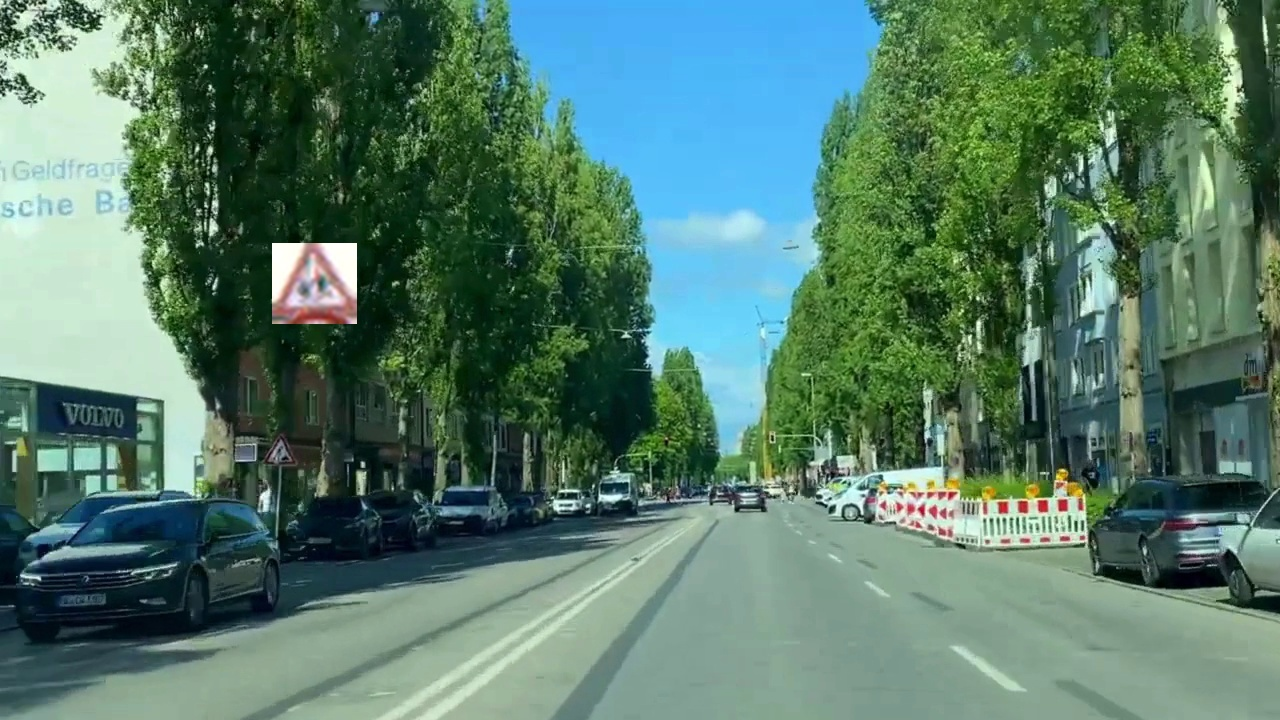Children: (272, 243, 357, 324)
